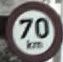Speed limit: (4, 2, 57, 57)
